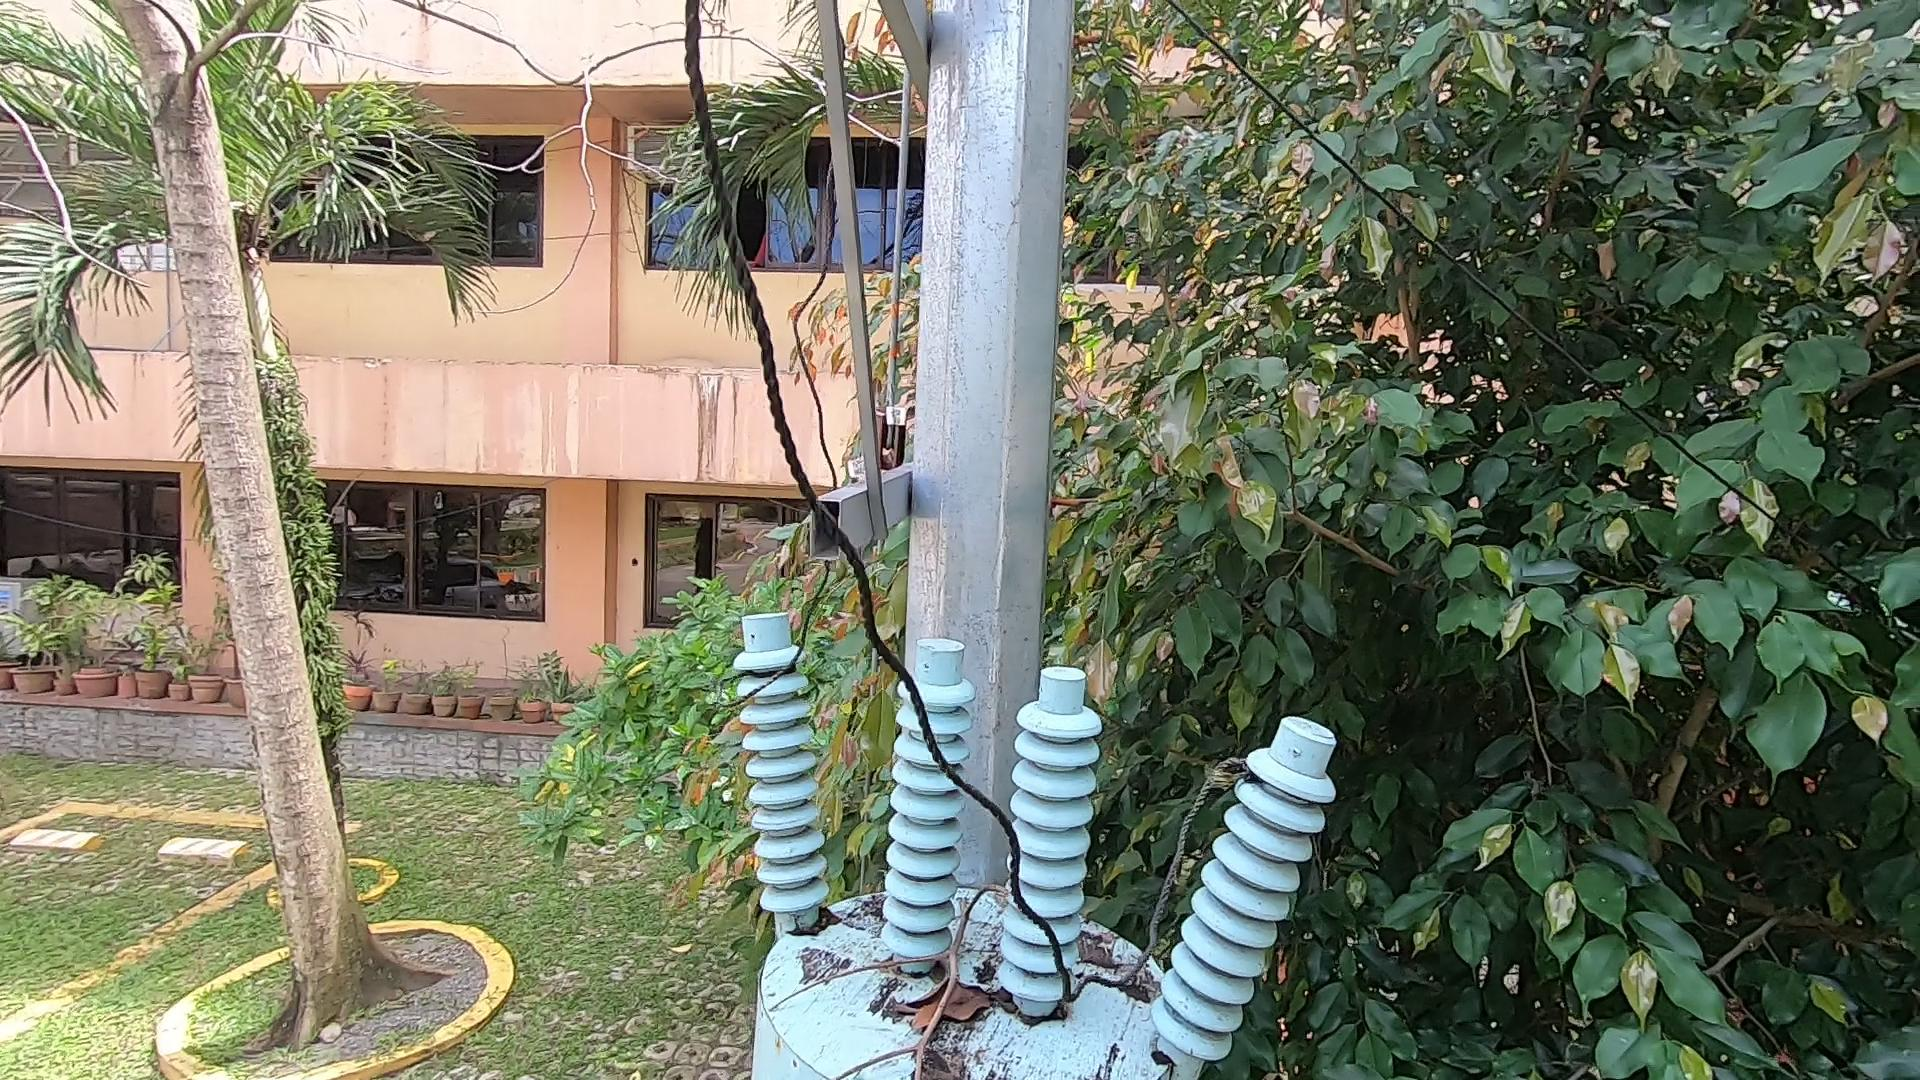leaf: (887, 963, 1013, 1036), (1085, 920, 1164, 1009), (779, 905, 844, 942)
tree branch: (796, 853, 1031, 1080)
